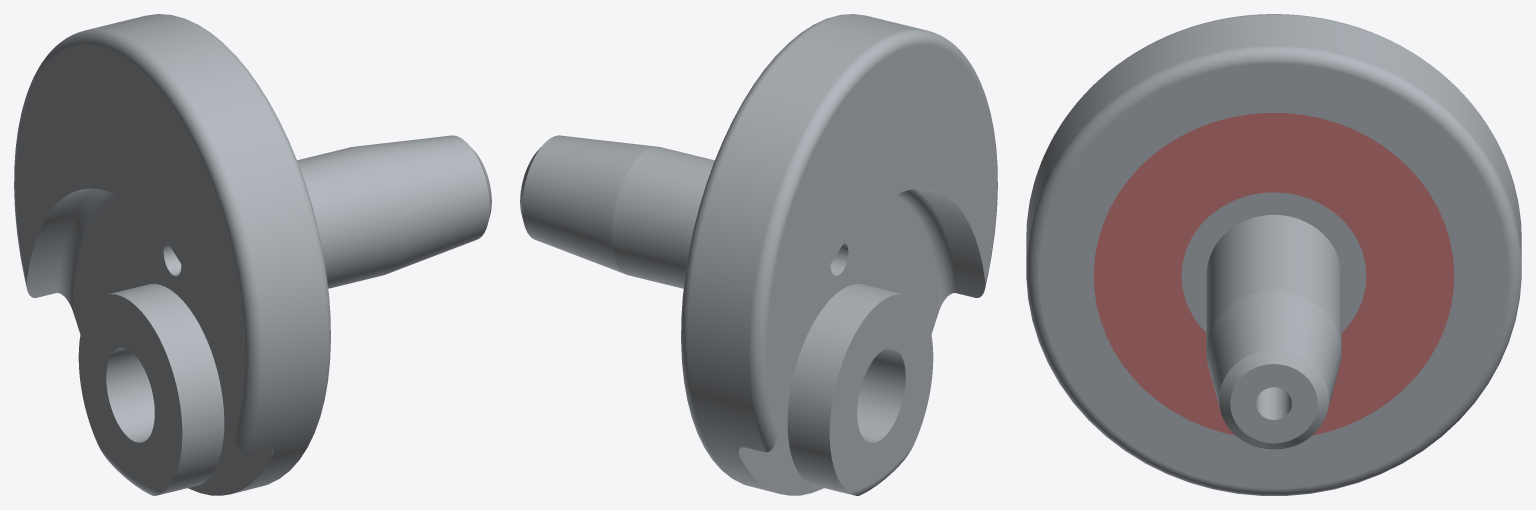
The model's file is step_05.glb.
The picture shows the model from 3 angles, left to right: view 1: azimuth 30°, elevation 25°; view 2: azimuth 150°, elevation 25°; view 3: azimuth 270°, elevation 25°; orthographic projection. The views are drawn at different scales.
Parts seen in each view (by area): view 1: part__crank; view 2: part__crank; view 3: part__crank, removed__crank.
Part boxes in pixels (x1,y1,x2,y2): part__crank: (14,14,491,495); part__crank: (520,14,997,495); part__crank: (1026,14,1521,495); removed__crank: (1093,113,1454,435).
Size of the model in its own units: 44.5 by 55 by 54.99.
